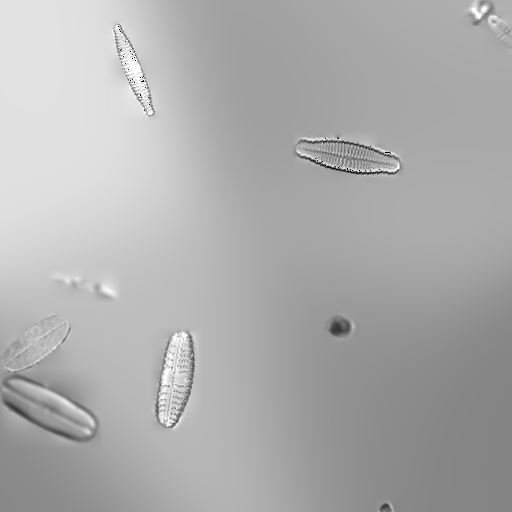ADLA: (288, 126, 408, 186)
ADSB: (479, 4, 512, 62)
FLEN: (0, 359, 108, 457)
FPEC: (101, 15, 165, 125)
PBIO: (0, 302, 79, 386)
RUNI: (146, 324, 206, 436)
